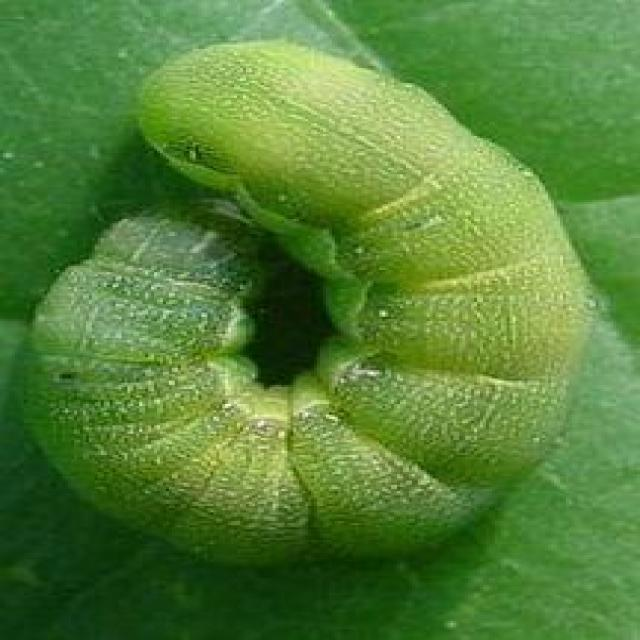BeetArmyWorm-Larva-: (14, 39, 599, 571)
